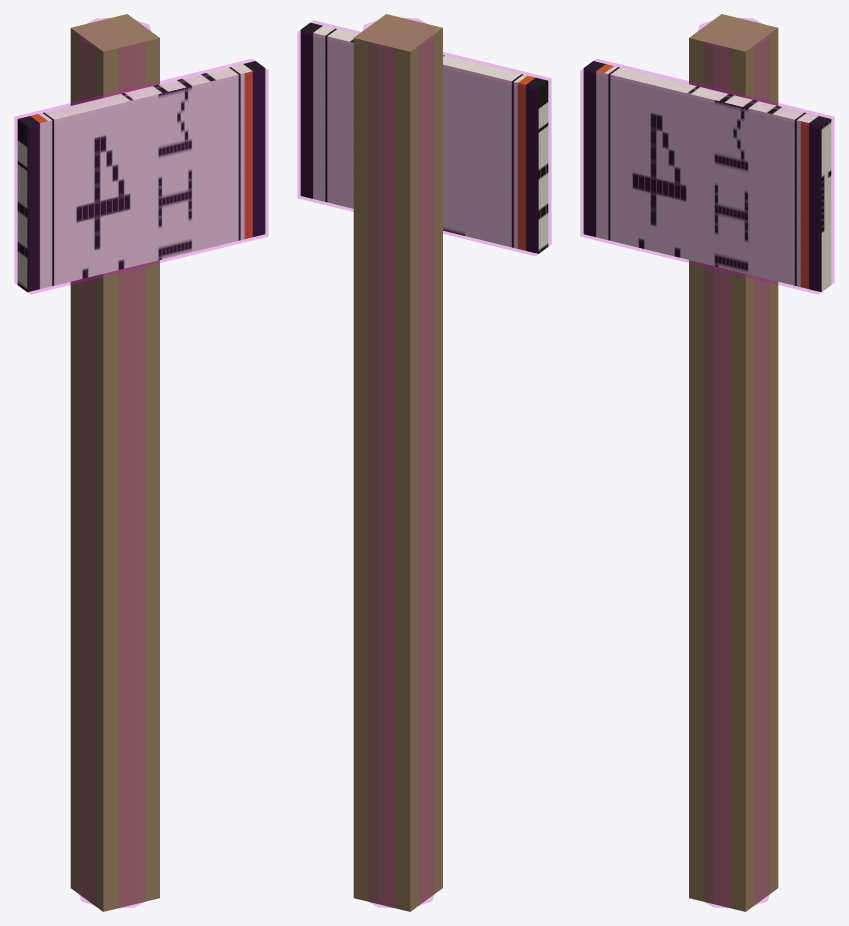
The model's file is milemarker_043.dae.
The picture shows the model from 3 angles, left to right: view 1: azimuth 30°, elevation 25°; view 2: azimuth 150°, elevation 25°; view 3: azimuth 330°, elevation 25°; orthographic projection.
Visible parts, largest first — view 1: post, sign, Colmesh_sign-1, Colmesh_post-1; view 2: post, Colmesh_post-1, sign, Colmesh_sign-1; view 3: post, sign, Colmesh_sign-1, Colmesh_post-1.
Boxes of the visible parts, x1,y1,x2,y2 form: post: (70,14,159,911); sign: (17,61,265,292); Colmesh_sign-1: (14,59,268,294); Colmesh_post-1: (79,18,150,907); post: (353,14,442,911); Colmesh_post-1: (362,18,433,907); sign: (300,22,548,253); Colmesh_sign-1: (297,20,551,255); post: (689,14,778,911); sign: (583,61,831,292); Colmesh_sign-1: (580,59,834,294); Colmesh_post-1: (698,18,769,907).
Size of the model in its own units: 0.42 by 0.165 by 1.45.
Materials: 3 (1 with a texture image).
